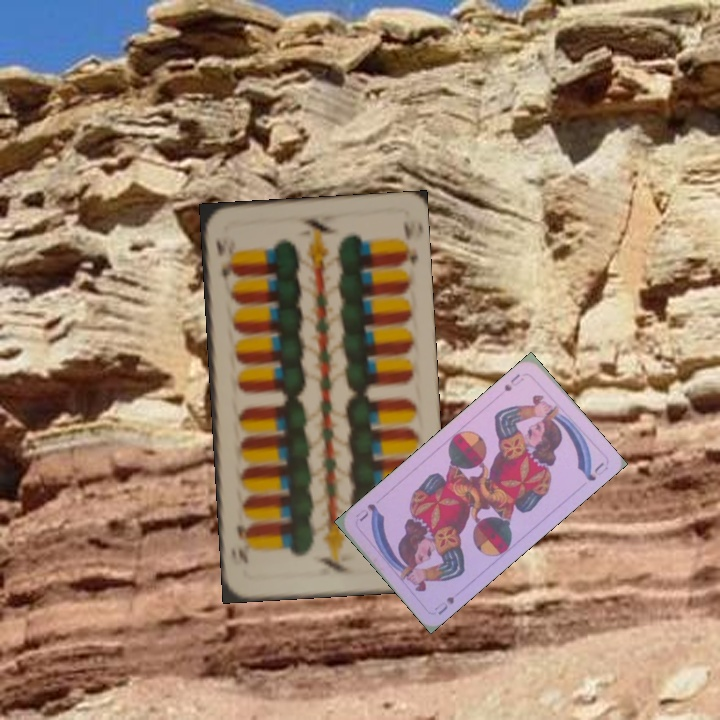E10: (212, 235, 237, 283)
SU: (431, 592, 457, 618), (500, 370, 527, 394)
